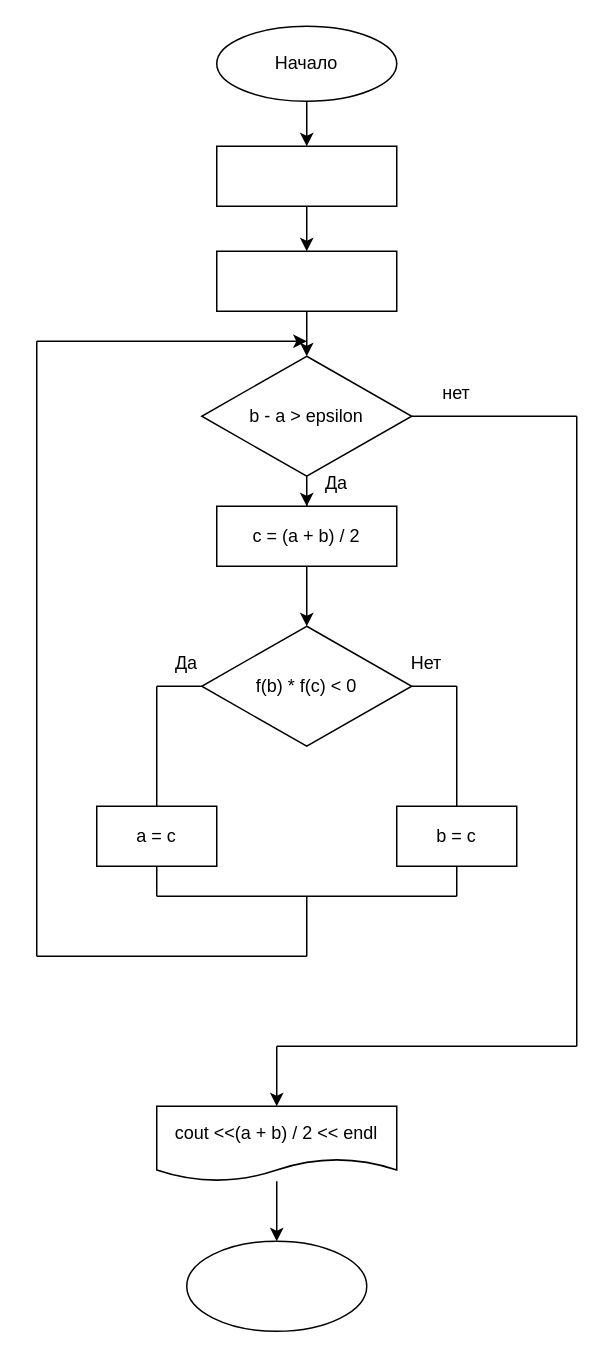
The diagram is 605 pixels wide and 1358 high, and some of its shapes have lost their labels. Each missing label, with the centre of its shape:
a = 1.0: the point at 306,175
b = 3.0: the point at 306,280
Конец: the point at 276,1285
